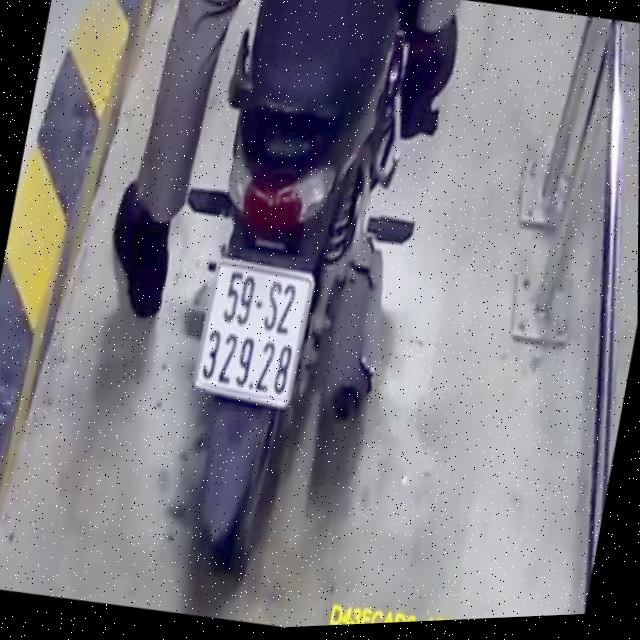motorcycle: (119, 0, 476, 607)
plate: (185, 250, 318, 414)
